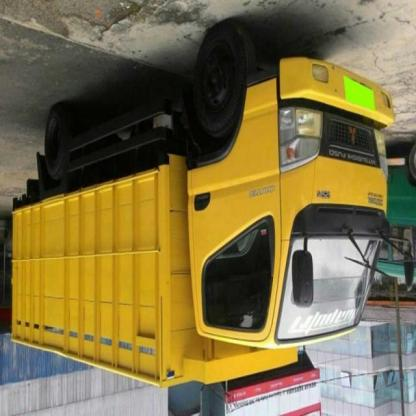truck: (9, 29, 416, 391)
